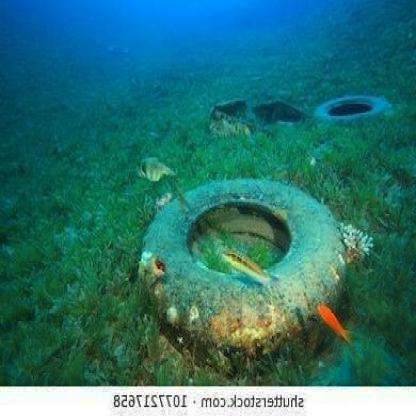misc: (208, 89, 305, 135)
tire: (138, 176, 354, 372), (312, 92, 390, 131)
